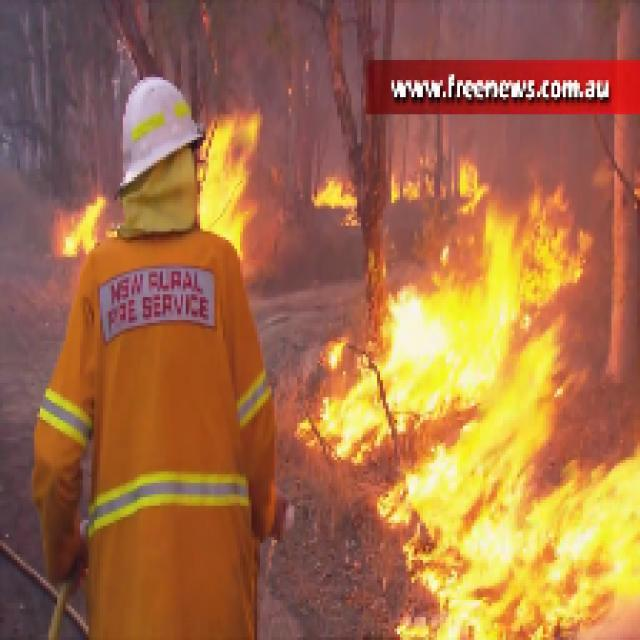Fire: (306, 200, 638, 631), (191, 97, 267, 256), (58, 182, 114, 265)
